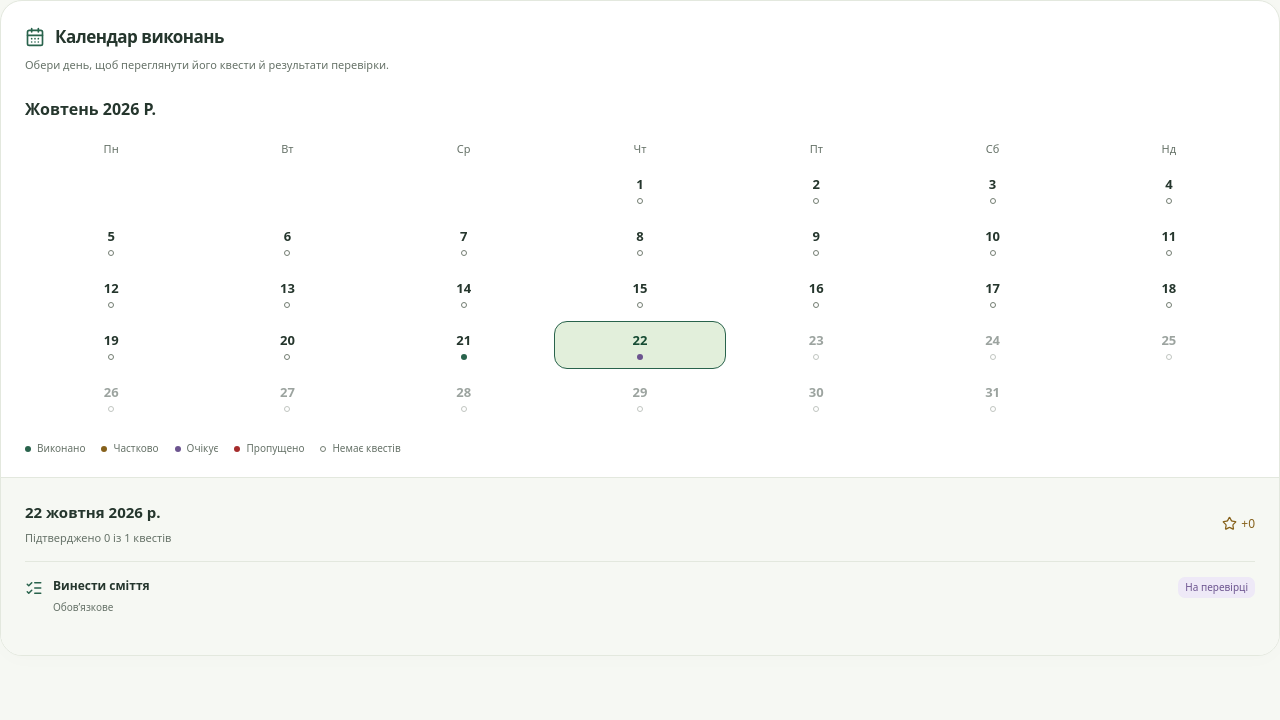
it: Progress history › includes actual legacy completions in the displayed total before schedule tracking began
This screenshot has width=1280, height=720.
Step 1. Click the button "21" → click(464, 345), box [378,321,550,369]
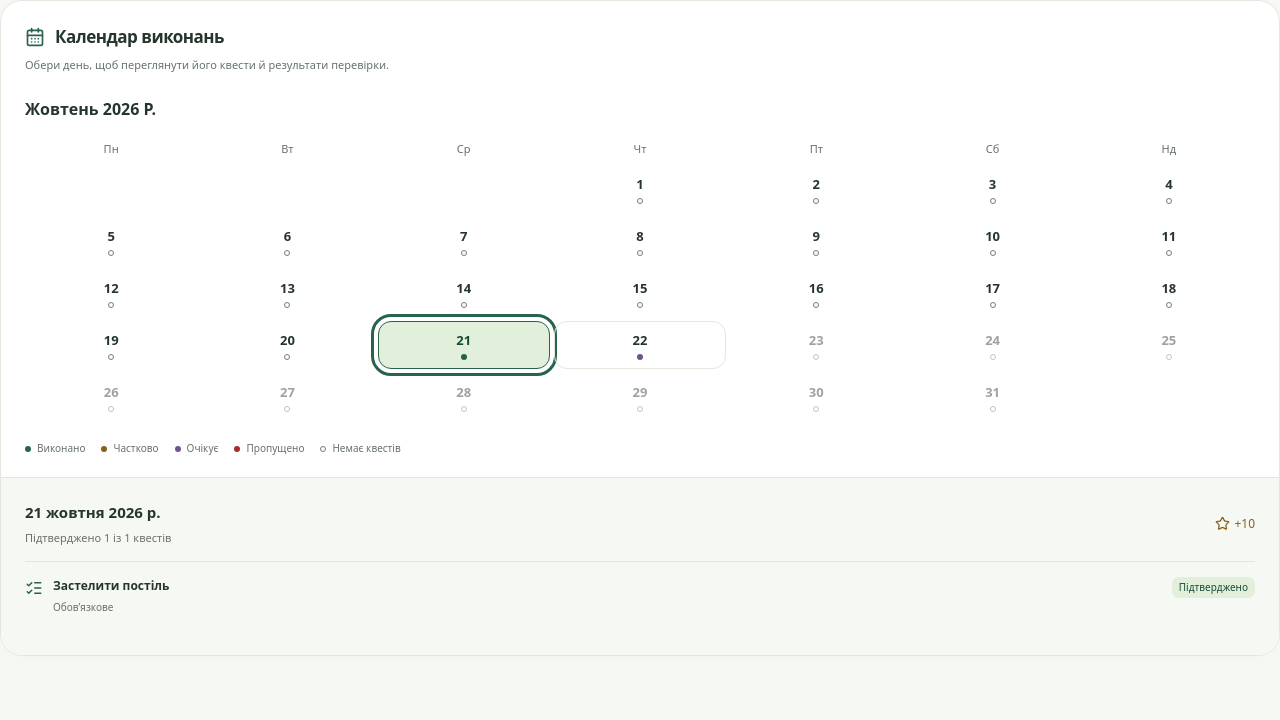
Result: the text "Підтверджено 1 із 1 квестів" is shown at [25,529,171,546]
Result: the text "Застелити постіль" is shown at [53,577,169,595]
